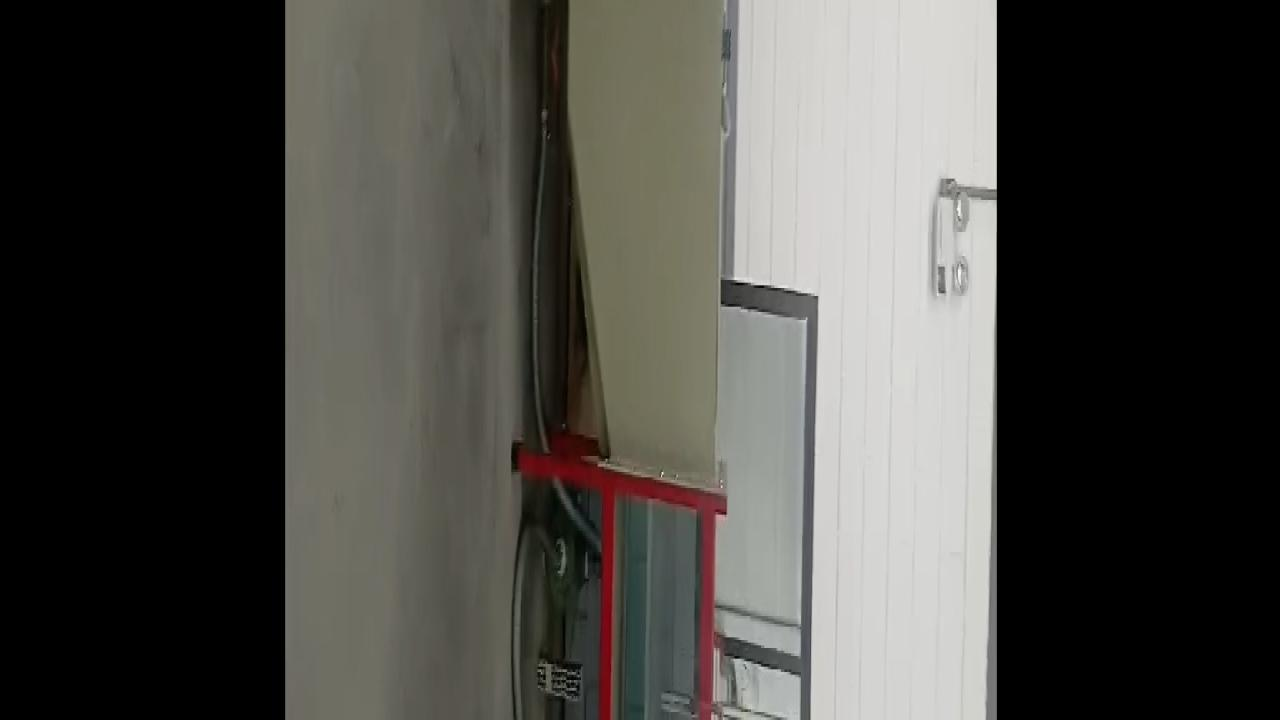Cube: (720, 26, 731, 62)
